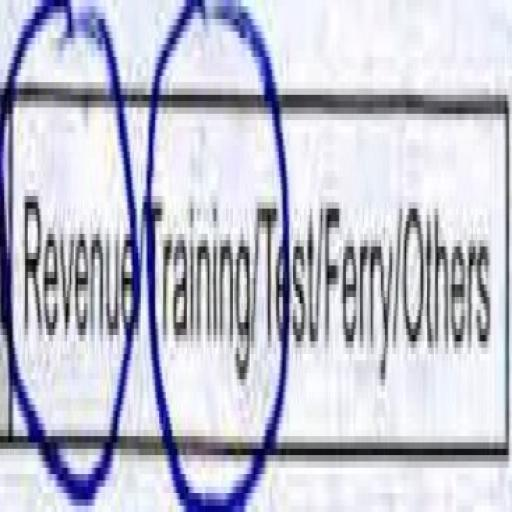check: (0, 0, 139, 512), (142, 0, 259, 512)
